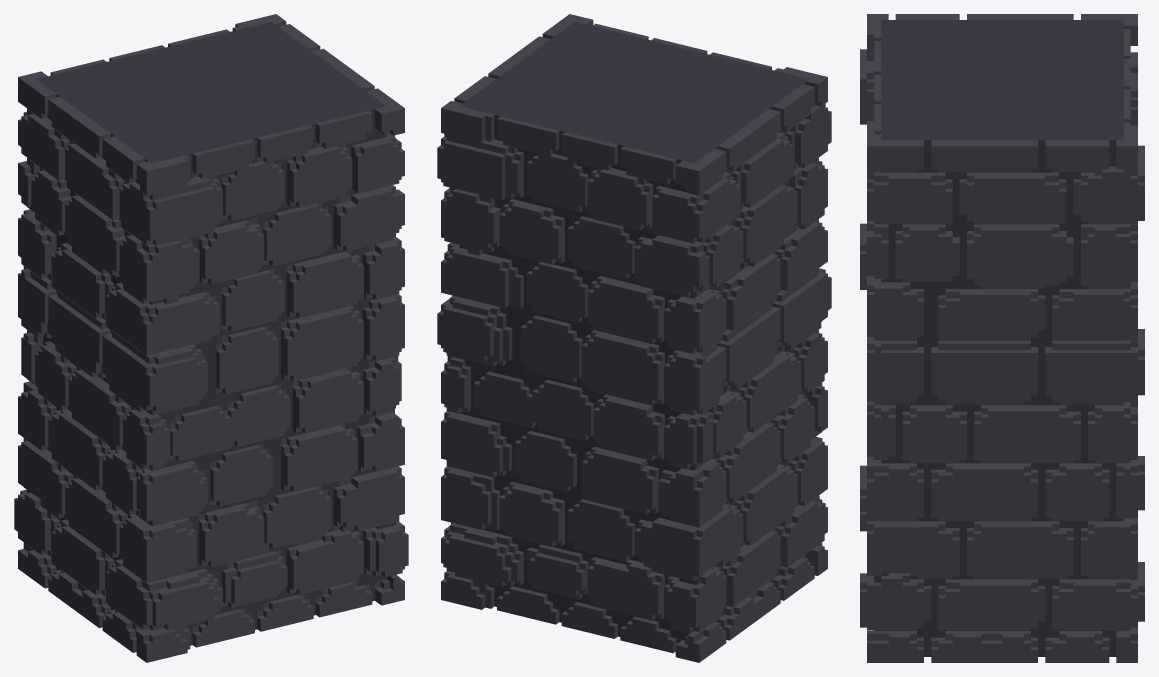
Rendered from BgWall_01.obj.
3 renders of one model, left to right at view 1: azimuth 30°, elevation 25°; view 2: azimuth 150°, elevation 25°; view 3: azimuth 270°, elevation 25°, orthographic. The views are drawn at different scales.
Size of the model in its own units: 4.4 by 8 by 4.
1 material, 1 textured.
